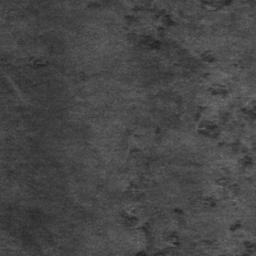Rolled in scale: (120, 0, 256, 256), (0, 9, 54, 115), (47, 184, 104, 250), (8, 164, 40, 243), (77, 72, 86, 83), (88, 3, 101, 8)
